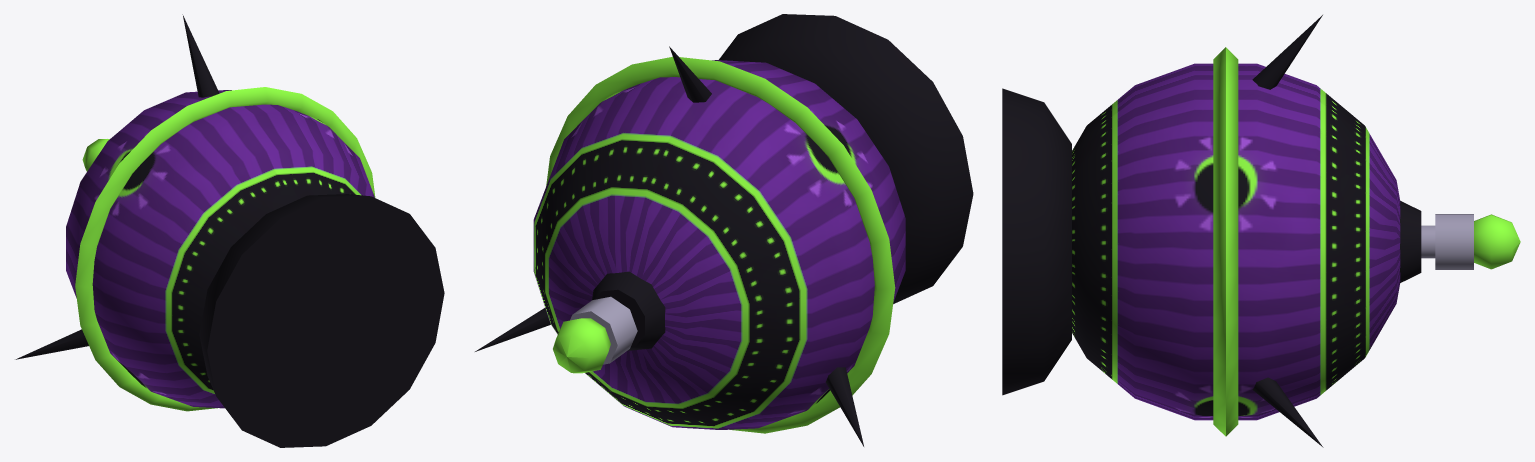
Rendered from dominion_turret_pod.obj.
3 renders of one model, left to right at view 1: azimuth 30°, elevation 25°; view 2: azimuth 150°, elevation 25°; view 3: azimuth 270°, elevation 25°, orthographic. The views are drawn at different scales.
Visible parts, largest first — view 1: collar, orb, band, spike; view 2: orb, collar, band, emitter_base, spike, ray_tip, ray_ring; view 3: orb, collar, band, spike, ray_ring, ray_tip, emitter_base, ray.
Part boxes in pixels (x1,y1,x2,y2): collar: (199, 194, 444, 447); orb: (66, 90, 374, 408); band: (75, 87, 375, 411); spike: (15, 14, 219, 359); orb: (533, 60, 905, 429); collar: (719, 14, 973, 304); band: (546, 56, 895, 433); emitter_base: (592, 271, 665, 350); spike: (475, 46, 863, 446); ray_tip: (553, 318, 610, 373); ray_ring: (570, 296, 637, 364); orb: (1072, 63, 1400, 420); collar: (1002, 88, 1071, 395); band: (1213, 47, 1238, 436); spike: (1252, 15, 1323, 447); ray_ring: (1435, 214, 1473, 269); ray_tip: (1474, 214, 1520, 269); emitter_base: (1400, 201, 1421, 282); ray: (1421, 225, 1435, 258).
Bounding box in the file's own units: 6.24 × 6.4 × 7.42.
4 materials, 1 textured.
